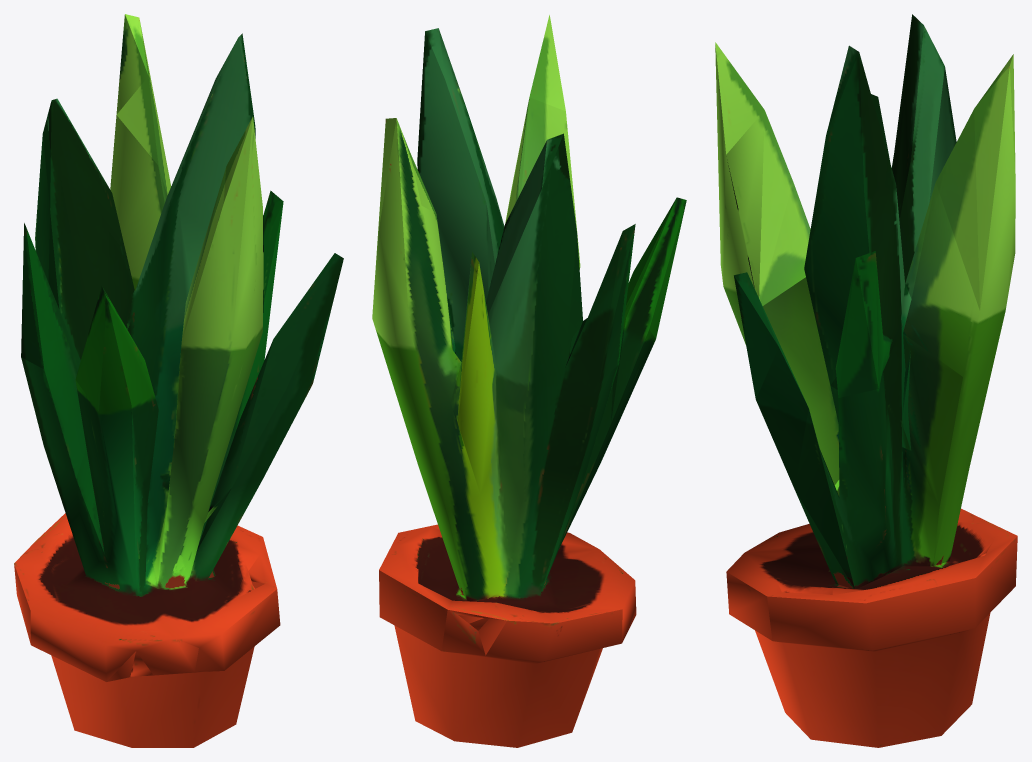
The model's file is snake-plant.glb.
3 renders of one model, left to right at view 1: azimuth 30°, elevation 25°; view 2: azimuth 150°, elevation 25°; view 3: azimuth 270°, elevation 25°, orthographic. The views are drawn at different scales.
Visible parts, largest first — view 1: geometry_0.001; view 2: geometry_0.001; view 3: geometry_0.001.
Boxes of the visible parts, x1,y1,x2,y2 form: geometry_0.001: (14, 14, 343, 747); geometry_0.001: (372, 15, 686, 747); geometry_0.001: (715, 14, 1017, 747).
Bounding box in the file's own units: 0.403 × 1 × 0.3894.
1 material, 1 textured.
